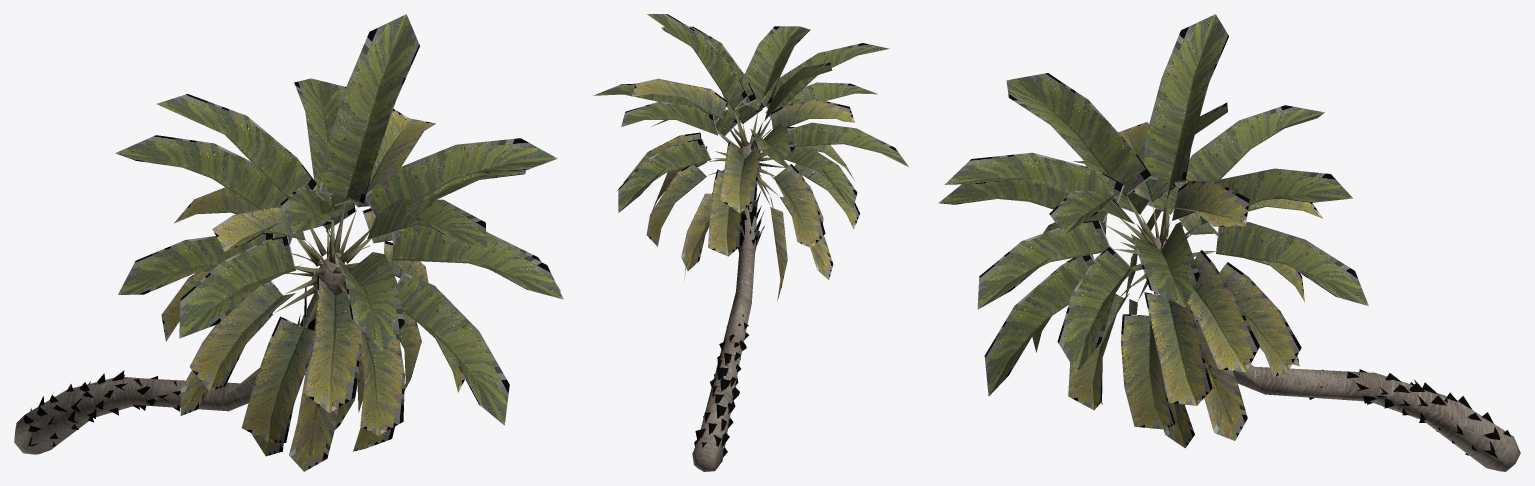
The model's file is tropical-palm-small-a-mid.glb.
3 views of the same model, side by side, from view 1: azimuth 30°, elevation 25°; view 2: azimuth 150°, elevation 25°; view 3: azimuth 270°, elevation 25° (orthographic). The views are drawn at different scales.
Visible parts, largest first — view 1: palm_tree_small_a_LOD0; view 2: palm_tree_small_a_LOD0; view 3: palm_tree_small_a_LOD0.
Part boxes in pixels (left/top/right/bottom): palm_tree_small_a_LOD0: left=14, top=14, right=563, bottom=471; palm_tree_small_a_LOD0: left=593, top=14, right=908, bottom=471; palm_tree_small_a_LOD0: left=938, top=14, right=1520, bottom=471.
Size of the model in its own units: 13.39 by 15.67 by 17.77.
Materials: 1 (1 with a texture image).
